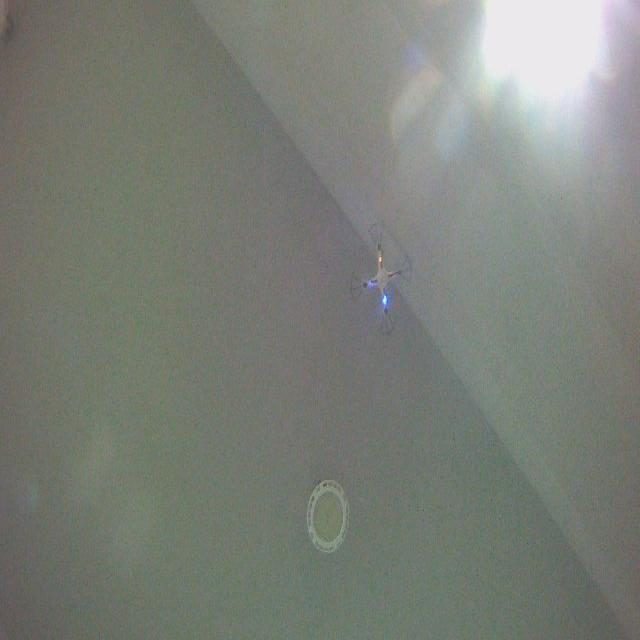drone: (348, 219, 415, 337)
